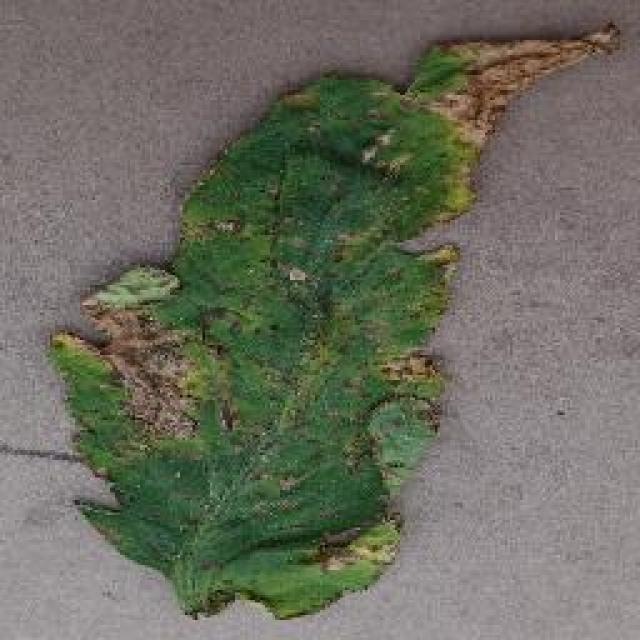Tomato bacterial spot leaf: (42, 14, 625, 625)
